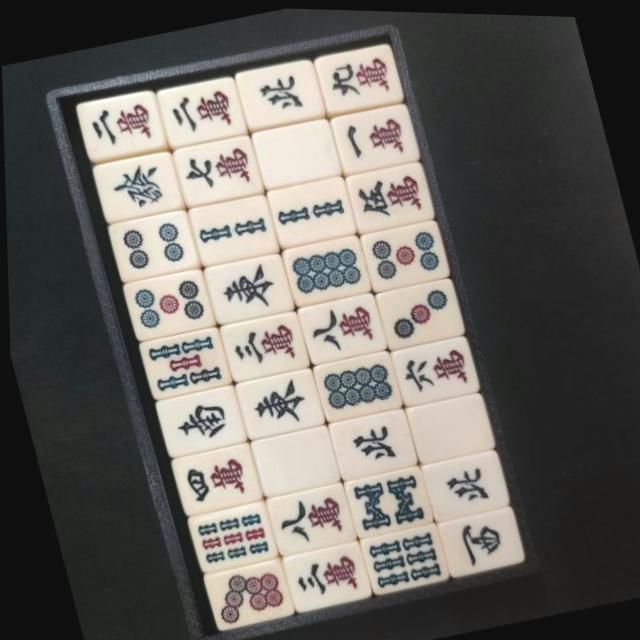hdg: (95, 152, 180, 219)
hdw: (251, 427, 334, 491), (254, 120, 337, 184), (407, 392, 488, 457)
hwe: (206, 253, 287, 320), (237, 369, 320, 434)
hwn: (330, 407, 411, 475), (423, 450, 503, 513), (241, 60, 320, 121)
hws: (157, 384, 240, 454)
hww: (437, 507, 519, 572)
sb2: (189, 192, 276, 263), (267, 175, 354, 246)
sb5: (138, 326, 226, 395)
sb6: (359, 523, 443, 590)
sb8: (345, 466, 428, 533)
sb9: (187, 502, 271, 567)
sc1: (333, 102, 412, 168)
sc2: (160, 78, 241, 142), (80, 92, 160, 155)
sc3: (219, 309, 306, 377), (282, 541, 364, 606)
sc4: (171, 444, 255, 512)
sc5: (345, 159, 430, 229)
sc6: (391, 335, 473, 402)
sc7: (175, 137, 261, 204)
sc8: (298, 291, 382, 360), (267, 483, 348, 550)
sc9: (318, 46, 399, 108)
sd3: (376, 274, 460, 344)
sd4: (109, 209, 192, 279)
sd5: (125, 269, 211, 337), (363, 218, 444, 285)
sd7: (202, 558, 289, 627)
sd8: (315, 350, 397, 417), (284, 234, 367, 299)
